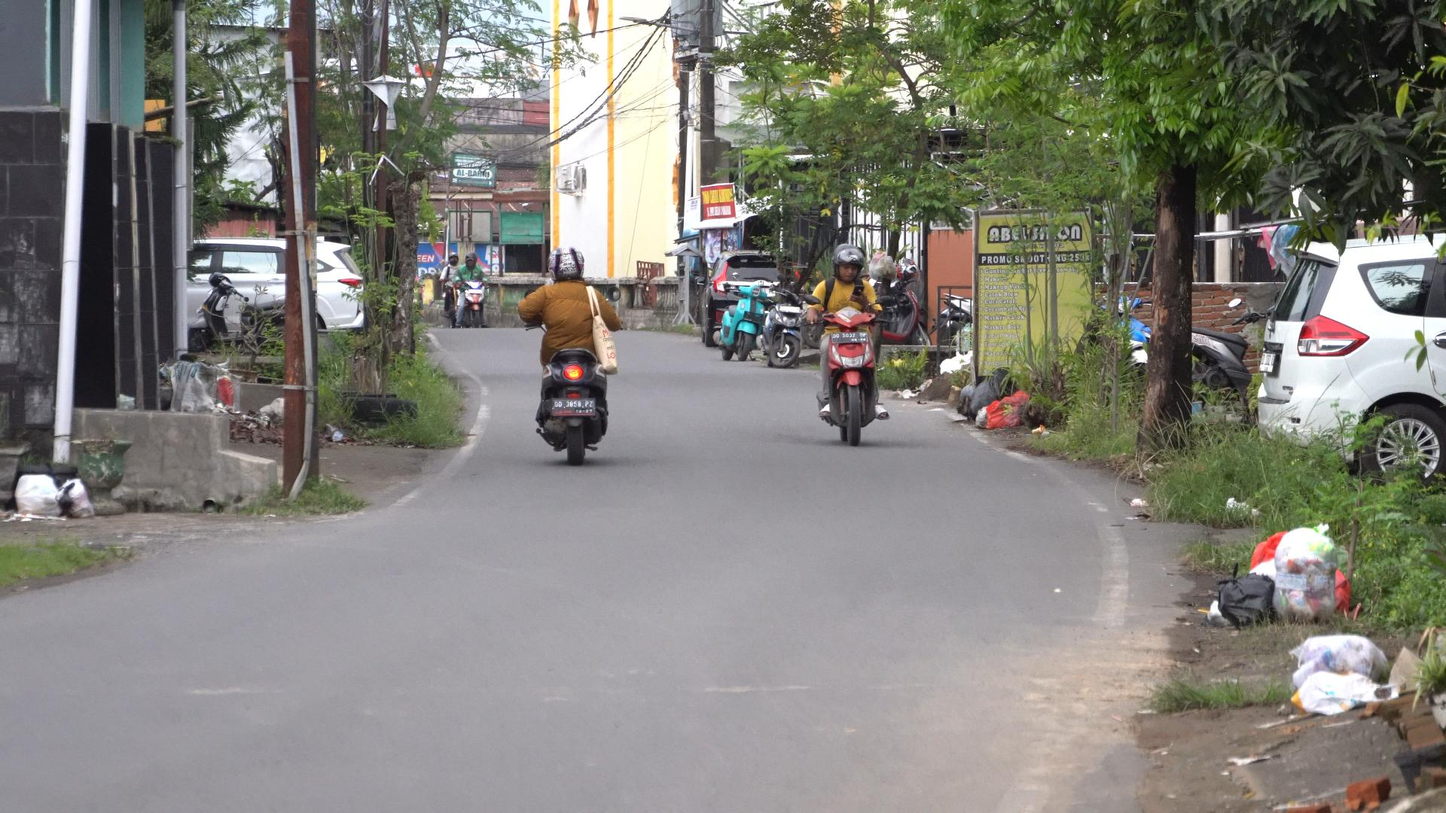number-plate: (830, 331, 868, 342)
